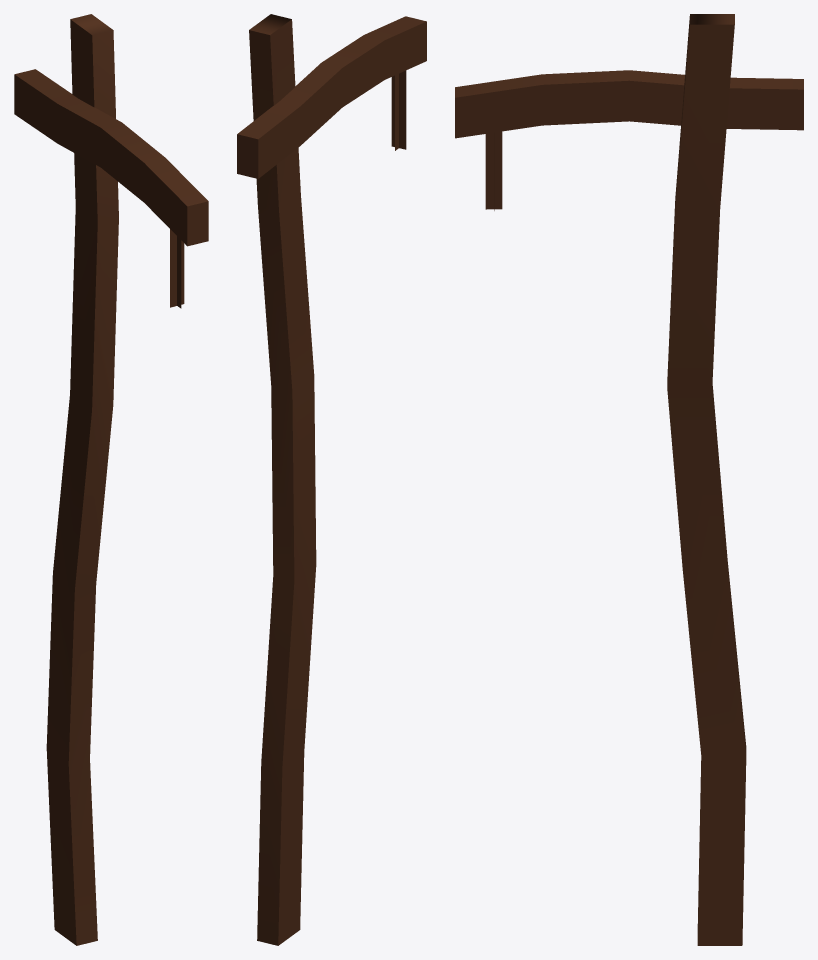
The model's file is wooden_post.fbx.
3 views of the same model, side by side, from view 1: azimuth 30°, elevation 25°; view 2: azimuth 150°, elevation 25°; view 3: azimuth 270°, elevation 25° (orthographic). The views are drawn at different scales.
Visible parts, largest first — view 1: Cube.013; view 2: Cube.013; view 3: Cube.013.
Part boxes in pixels (x1=…): Cube.013: x1=14, y1=14, x2=208, y2=945; Cube.013: x1=237, y1=14, x2=426, y2=945; Cube.013: x1=455, y1=14, x2=803, y2=945.
Size of the model in its own units: 29.82 by 600 by 205.
